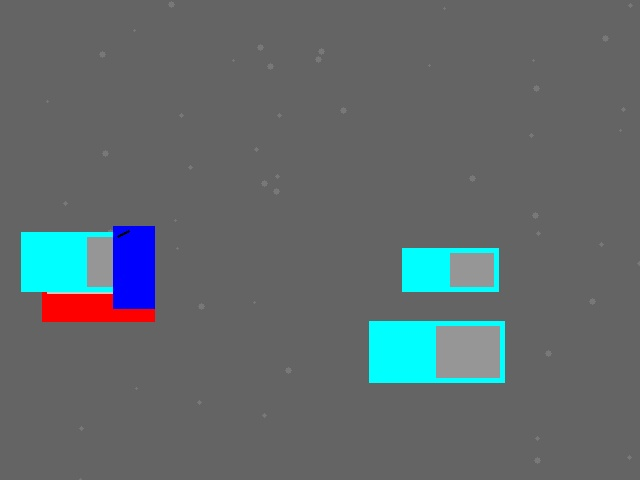car: (42, 265, 154, 321)
motorcycle: (113, 226, 154, 308)
truck: (369, 321, 504, 382), (21, 232, 154, 291), (402, 248, 498, 291)
